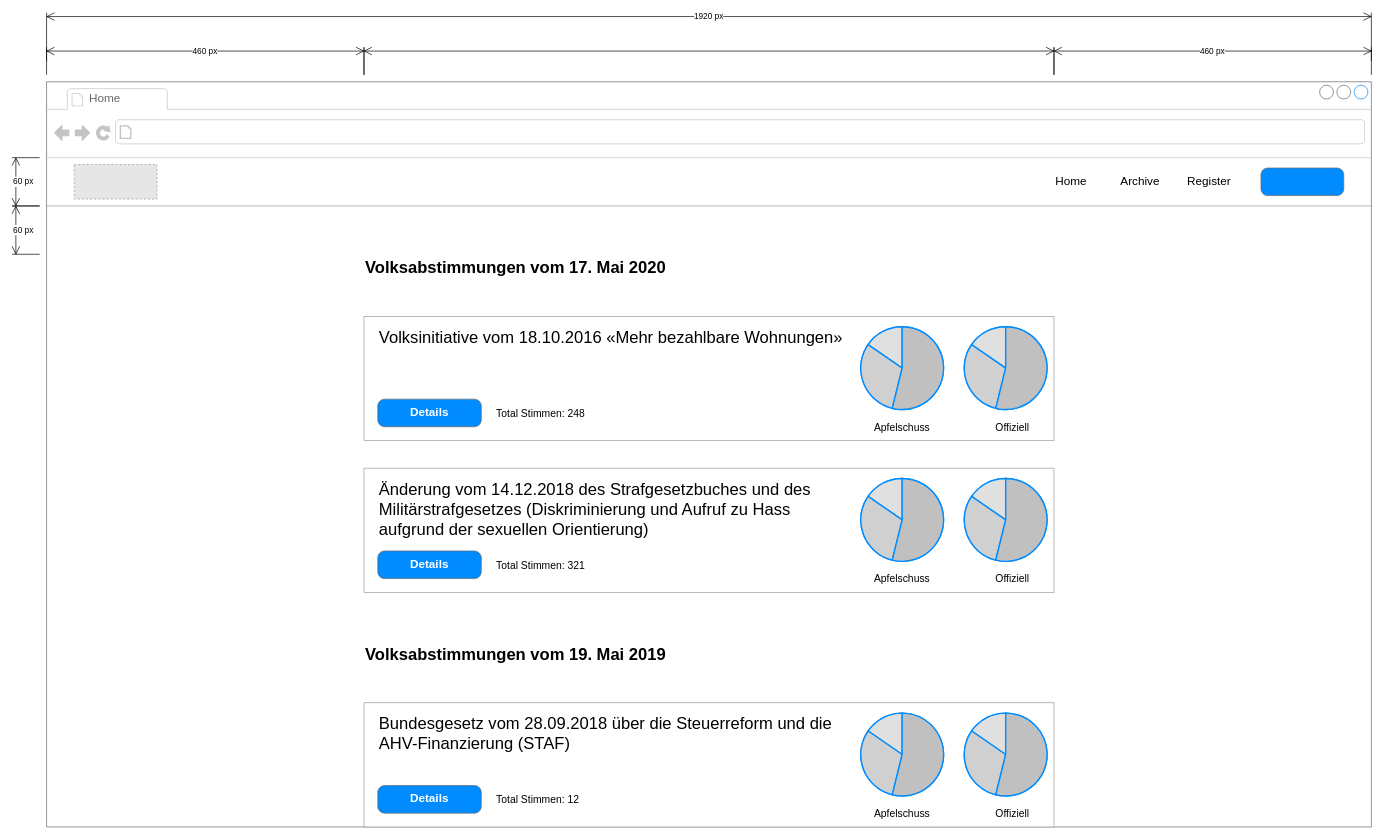
Image size: 1383x839. Some labels were removed from this diagram. Grey dashed boxes stand in for pictures. The shapes that lost their labels are listed below. From the top down, each one's centre as x and y in pixels, then its label:
At (x=708, y=61): "1000 px".
At (x=567, y=131): "https://www.apfelschuss.io/archive".
At (x=1302, y=181): "Login".
